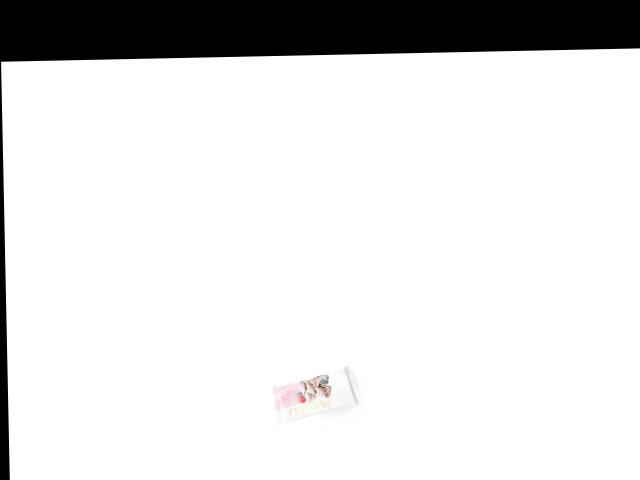chocolate: (272, 363, 357, 425)
